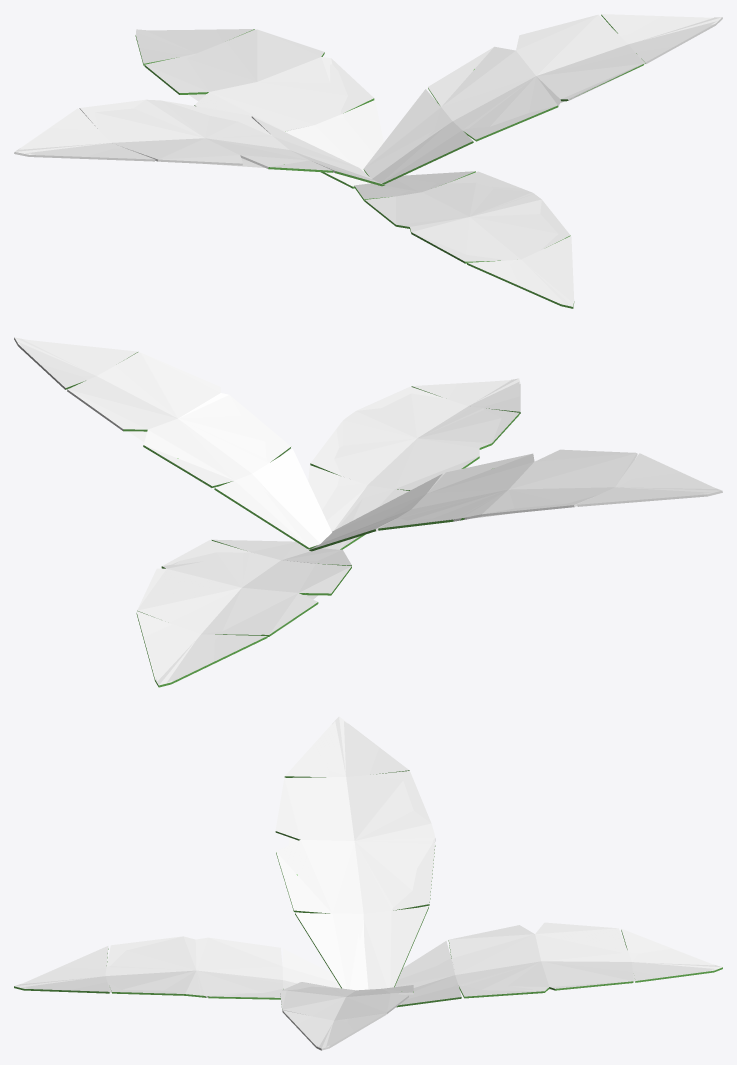
File: Fern_1_Snowy.fbx
3 views of the same model, one above another, from view 1: azimuth 30°, elevation 25°; view 2: azimuth 150°, elevation 25°; view 3: azimuth 270°, elevation 25° (orthographic). The views are drawn at different scales.
Visible parts, largest first — view 1: Fern 1_LOD0_Snowy, Fern 1_LOD2_Snowy, Fern 1_LOD1_Snowy, Fern 1_LOD3_Snowy; view 2: Fern 1_LOD0_Snowy, Fern 1_LOD2_Snowy, Fern 1_LOD1_Snowy, Fern 1_LOD3_Snowy; view 3: Fern 1_LOD0_Snowy, Fern 1_LOD2_Snowy, Fern 1_LOD1_Snowy, Fern 1_LOD3_Snowy.
Part boxes in pixels (box(x1,y1,x2,y2)): Fern 1_LOD0_Snowy: box(14, 14, 722, 308); Fern 1_LOD2_Snowy: box(79, 31, 644, 259); Fern 1_LOD1_Snowy: box(15, 14, 721, 307); Fern 1_LOD3_Snowy: box(19, 16, 716, 304); Fern 1_LOD0_Snowy: box(14, 337, 722, 687); Fern 1_LOD2_Snowy: box(97, 352, 614, 633); Fern 1_LOD1_Snowy: box(15, 340, 721, 685); Fern 1_LOD3_Snowy: box(18, 339, 715, 682); Fern 1_LOD0_Snowy: box(14, 717, 722, 1050); Fern 1_LOD2_Snowy: box(105, 771, 635, 1020); Fern 1_LOD1_Snowy: box(15, 716, 721, 1049); Fern 1_LOD3_Snowy: box(21, 721, 715, 1046).
Size of the model in its own units: 52.04 by 9.74 by 50.75.
